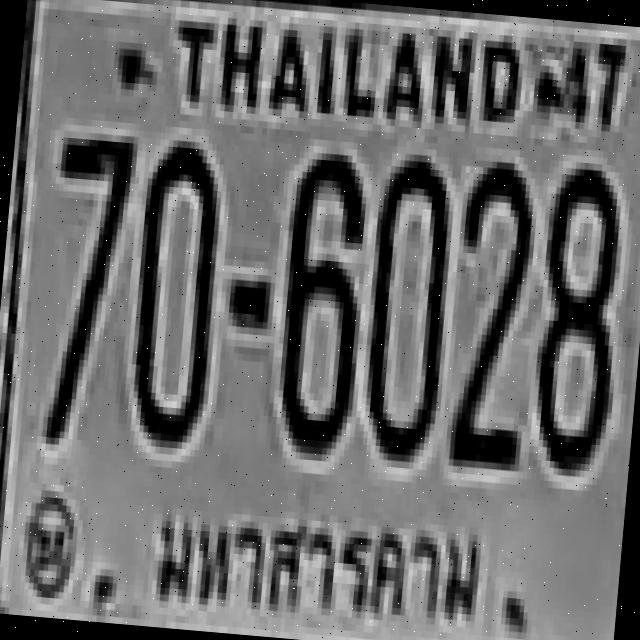0: (120, 134, 226, 446), (355, 155, 455, 460)
2: (442, 156, 538, 461), (442, 155, 536, 434)
6: (270, 148, 370, 452)
7: (35, 130, 136, 442), (40, 130, 136, 389), (44, 130, 136, 336)
8: (528, 160, 628, 472)
MahaSarakham: (142, 483, 495, 640)
